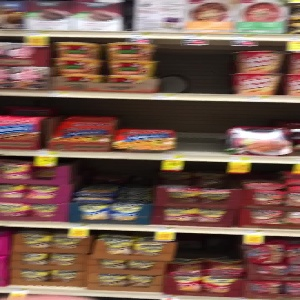void: (157, 40, 232, 97), (174, 100, 226, 158)
